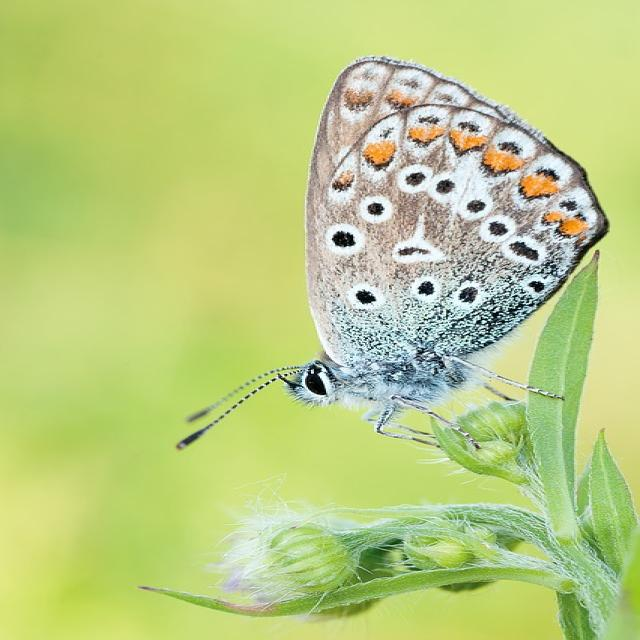butterfly: (289, 58, 608, 418)
